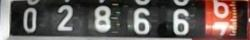digits: (131, 7, 150, 34), (93, 6, 111, 32), (56, 4, 73, 30), (172, 8, 188, 34), (23, 7, 37, 32), (214, 0, 228, 19)
